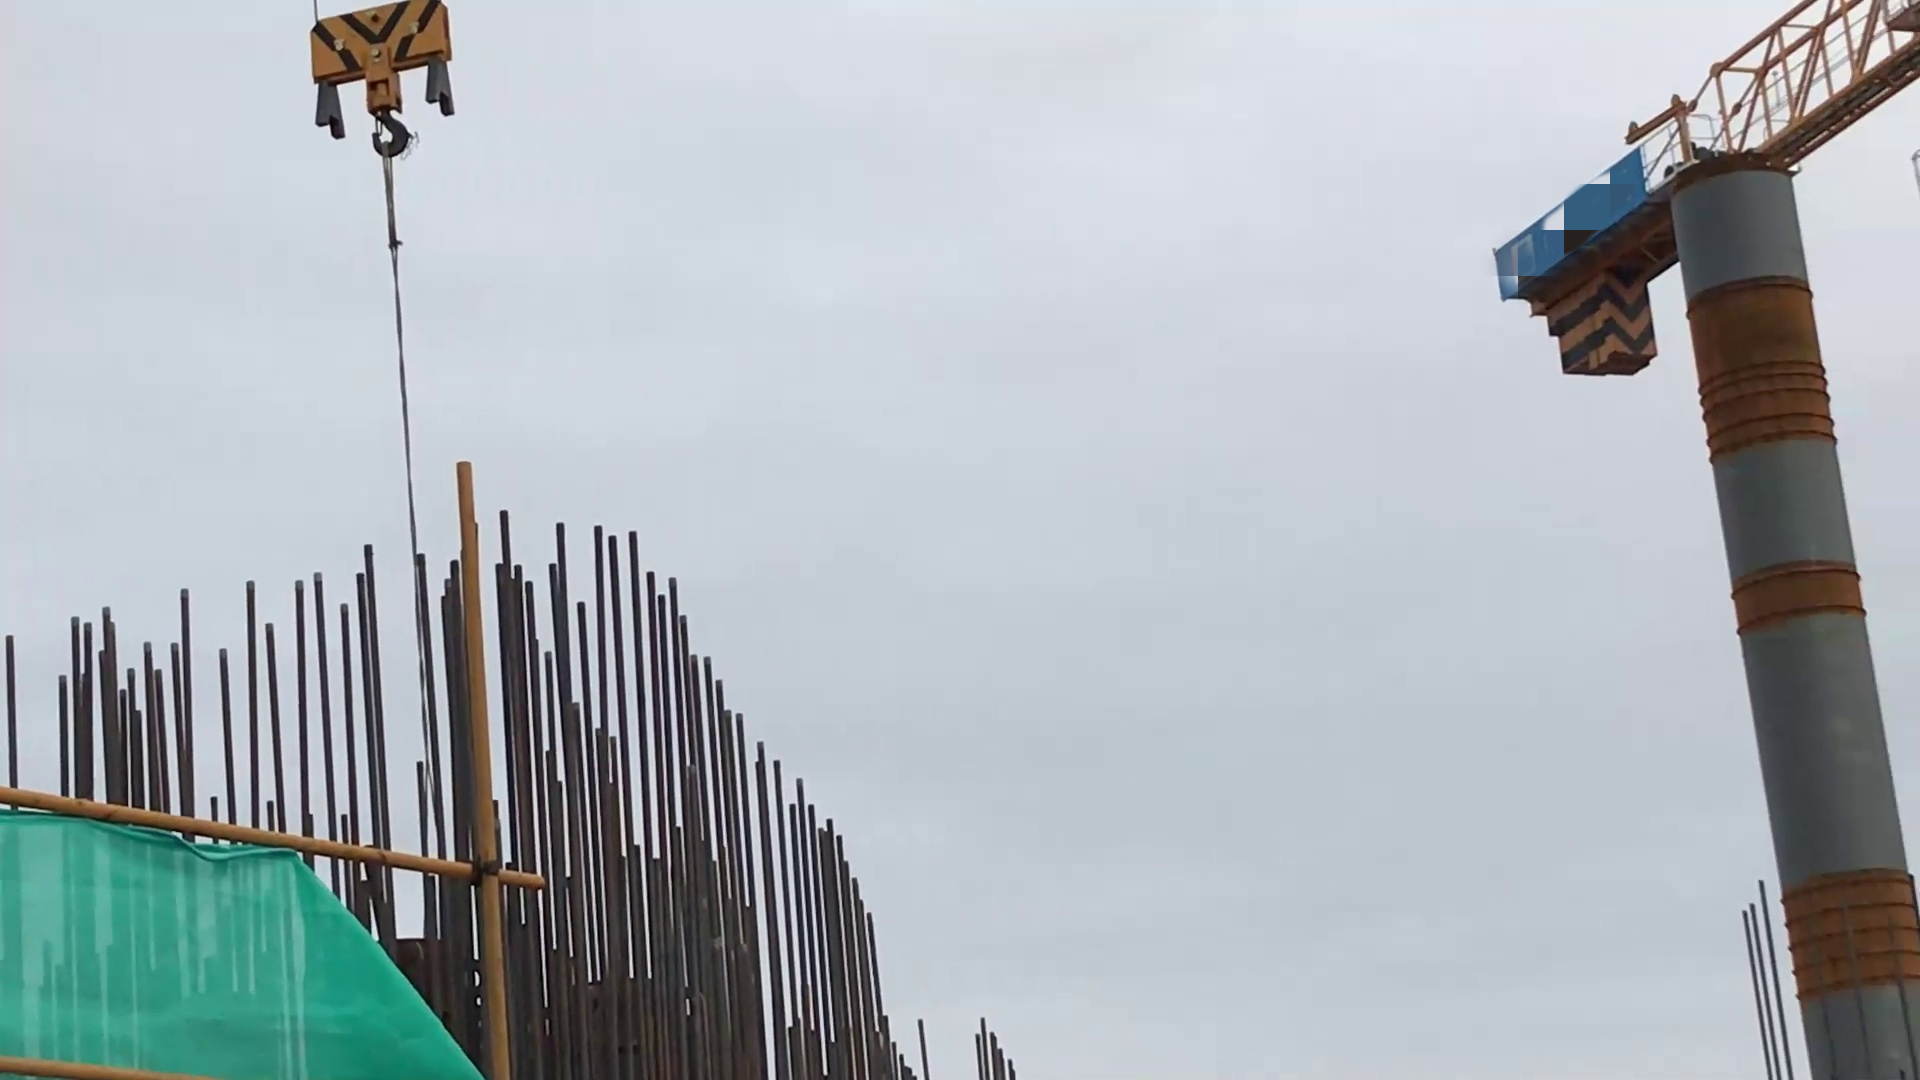hook: (301, 15, 468, 161)
